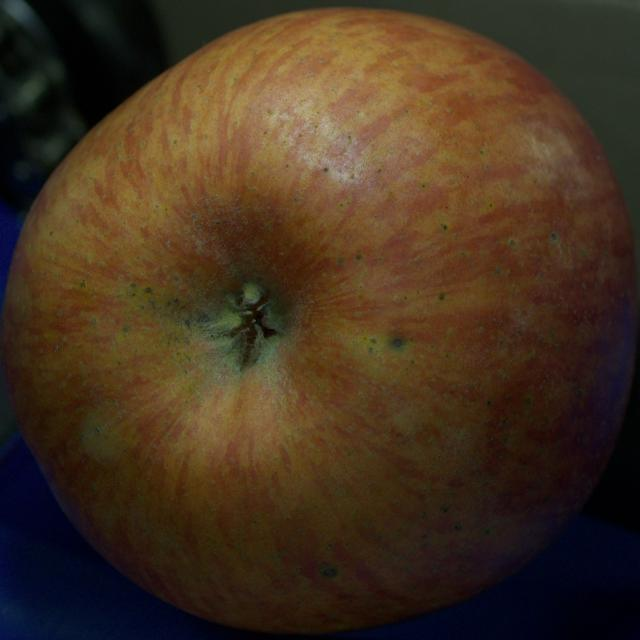apple: (0, 8, 638, 633)
pest: (323, 568, 336, 577), (392, 339, 403, 348)
